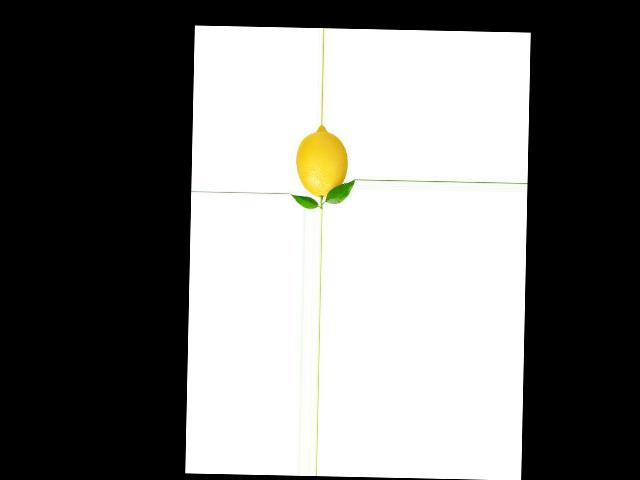lemon: (290, 124, 346, 203)
